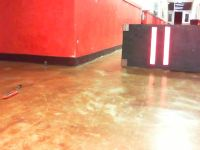switch: (162, 26, 170, 65), (150, 27, 157, 64)
